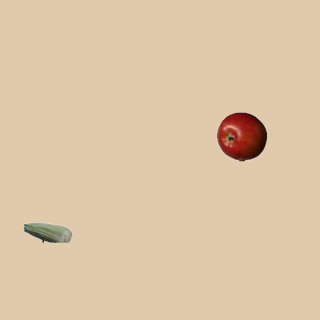Apple Braeburn: (216, 111, 266, 161)
Corn Husk: (22, 207, 72, 257)
